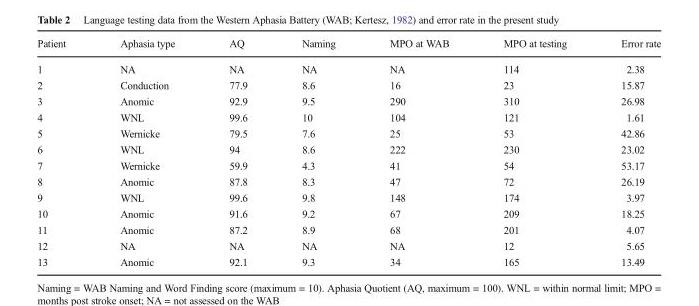table: (36, 36, 660, 267)
table column: (475, 36, 593, 267), (361, 36, 475, 267), (92, 36, 201, 267), (273, 36, 361, 267), (201, 36, 273, 267), (593, 36, 660, 267), (36, 36, 92, 267)
table column header: (36, 36, 660, 55)
table row: (36, 55, 660, 76), (36, 36, 660, 55), (36, 124, 660, 141), (36, 76, 660, 92), (36, 92, 660, 108), (36, 108, 660, 124), (36, 141, 660, 157), (36, 157, 660, 173), (36, 173, 660, 189), (36, 189, 660, 205), (36, 205, 660, 221), (36, 221, 660, 237), (36, 237, 660, 253), (36, 253, 660, 267)
